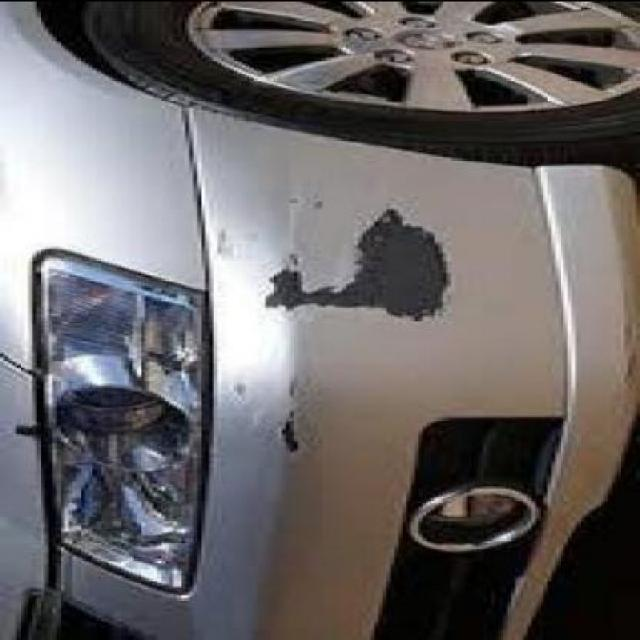damage: (258, 209, 459, 324), (272, 376, 308, 457)
